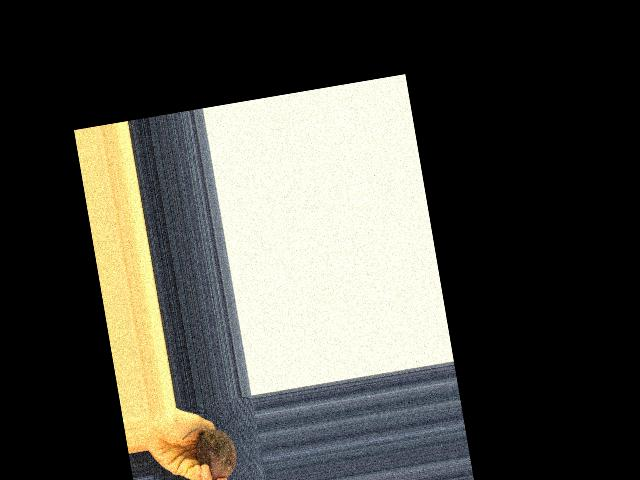beet: (179, 421, 239, 480)
